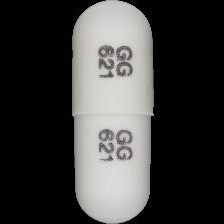0615-1337: (0, 0, 224, 224)
